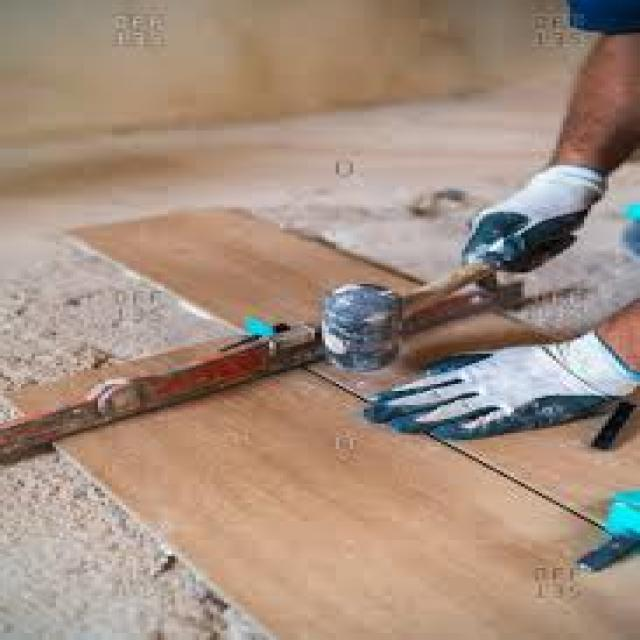hammer: (311, 234, 528, 392)
